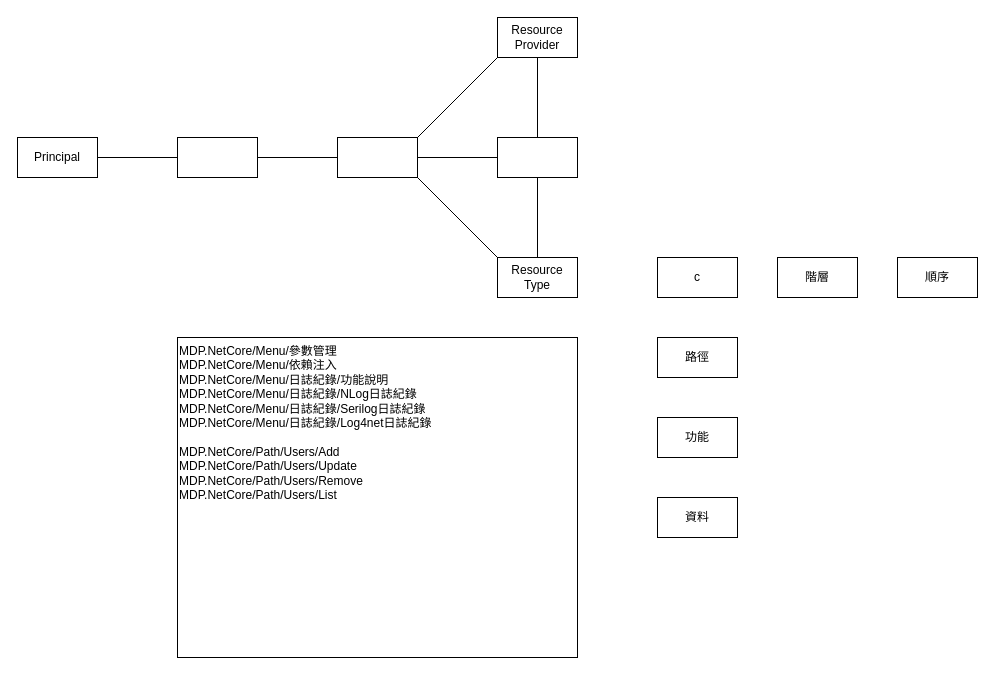
Some shapes in this 995 by 675 pixel diagram are drawn without their labels. The shapes that lost their labels are listed below. From the top down, each one's box as (x1, y1, x2, y2) in pixels, then its label:
(176, 136, 258, 178): Role
(336, 136, 418, 178): Permission
(496, 136, 578, 178): Resource
